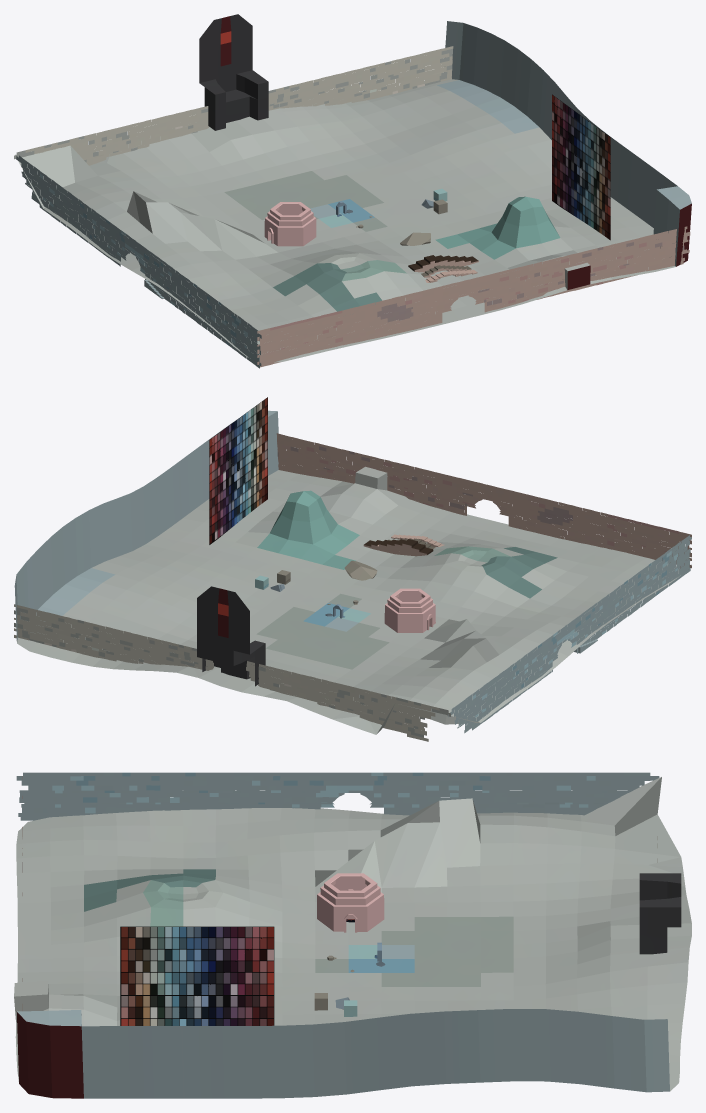
Rendered from grey_box3.gltf.
The picture shows the model from 3 angles, top to bottom: view 1: azimuth 30°, elevation 25°; view 2: azimuth 150°, elevation 25°; view 3: azimuth 270°, elevation 25°; orthographic projection. The views are drawn at different scales.
Parts seen in each view (by area): view 1: ground; view 2: ground; view 3: ground.
Part boxes in pixels (x1,y1,x2,y2): ground: [14, 14, 691, 368]; ground: [14, 397, 691, 741]; ground: [14, 772, 691, 1098].
Bounding box in the file's own units: 102 × 26.32 × 103.
1 material, 1 textured.
